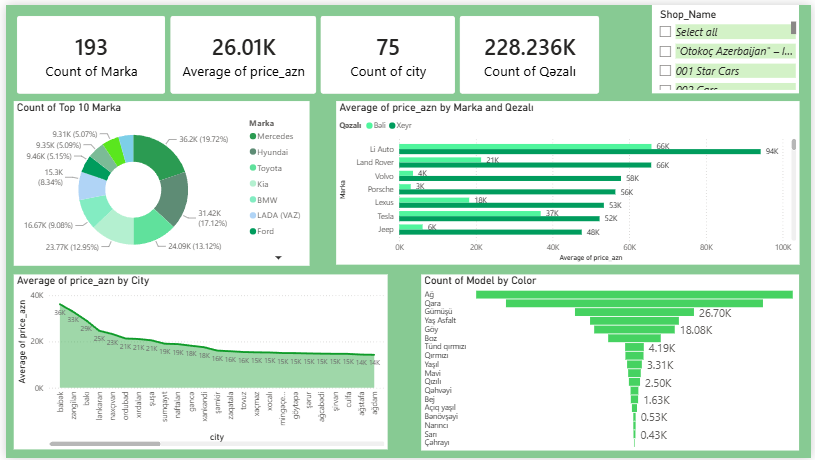

Layout of this report page (visuals, bound fields, positions):
{"tool":"powerbi","page":{"name":"Page 1","canvas":[1280,720],"ordinal":0},"visuals":[{"type":"cardVisual","fields":{"Data":["Count(turboaz_cars_cleaned_iqr.Marka)"]},"box":[0,0,270,158],"z":0},{"type":"cardVisual","fields":{"Data":["Count(turboaz_cars_cleaned_iqr.city)"]},"box":[482,0,248,158],"z":1000},{"type":"cardVisual","fields":{"Data":["CountNonNull(turboaz_cars_cleaned_iqr.Qəzalı)"]},"box":[704,0,256,158],"z":2000},{"type":"cardVisual","fields":{"Data":["Avg(turboaz_cars_cleaned_iqr.price_azn)"]},"box":[244,0,266,158],"z":3000},{"type":"donutChart","title":"Count of Top 10 Marka","fields":{"Y":["CountNonNull(turboaz_cars_cleaned_iqr.Marka)"],"Category":["turboaz_cars_cleaned_iqr.Marka"]},"box":[12,152,470,262],"z":4000},{"type":"clusteredBarChart","title":"Average of price_azn by Marka and Qezalı","fields":{"Y":["Avg(turboaz_cars_cleaned_iqr.price_azn)"],"Series":["turboaz_cars_cleaned_iqr.Qəzalı"],"Category":["turboaz_cars_cleaned_iqr.Marka"]},"box":[524,152,736,260],"z":5000},{"type":"stackedAreaChart","title":"Average of price_azn by City","fields":{"Category":["turboaz_cars_cleaned_iqr.city"],"Y":["Avg(turboaz_cars_cleaned_iqr.price_azn)"]},"box":[12,428,594,278],"z":6000},{"type":"slicer","fields":{"Values":["turboaz_cars_cleaned_iqr.shop_name"]},"box":[1026,0,234,140],"z":7000},{"type":"funnel","title":"Count of Model by Color","fields":{"Y":["CountNonNull(turboaz_cars_cleaned_iqr.Model)"],"Category":["turboaz_cars_cleaned_iqr.Rəng"]},"box":[660,428,600,280],"z":8000}]}

Visuals, with their boxes in screenshot pixels (x1, y1, x2, y2), scaled from the page's 1280x720 canvas onto the 815x460 screenshot:
cardVisual - Count(turboaz_cars_cleaned_iqr.Marka): 0, 0, 172, 101
cardVisual - Count(turboaz_cars_cleaned_iqr.city): 307, 0, 465, 101
cardVisual - CountNonNull(turboaz_cars_cleaned_iqr.Qəzalı): 448, 0, 611, 101
cardVisual - Avg(turboaz_cars_cleaned_iqr.price_azn): 155, 0, 325, 101
"Count of Top 10 Marka" donutChart: 8, 97, 307, 264
"Average of price_azn by Marka and Qezalı" clusteredBarChart: 334, 97, 802, 263
"Average of price_azn by City" stackedAreaChart: 8, 273, 386, 451
slicer - turboaz_cars_cleaned_iqr.shop_name: 653, 0, 802, 89
"Count of Model by Color" funnel: 420, 273, 802, 452
